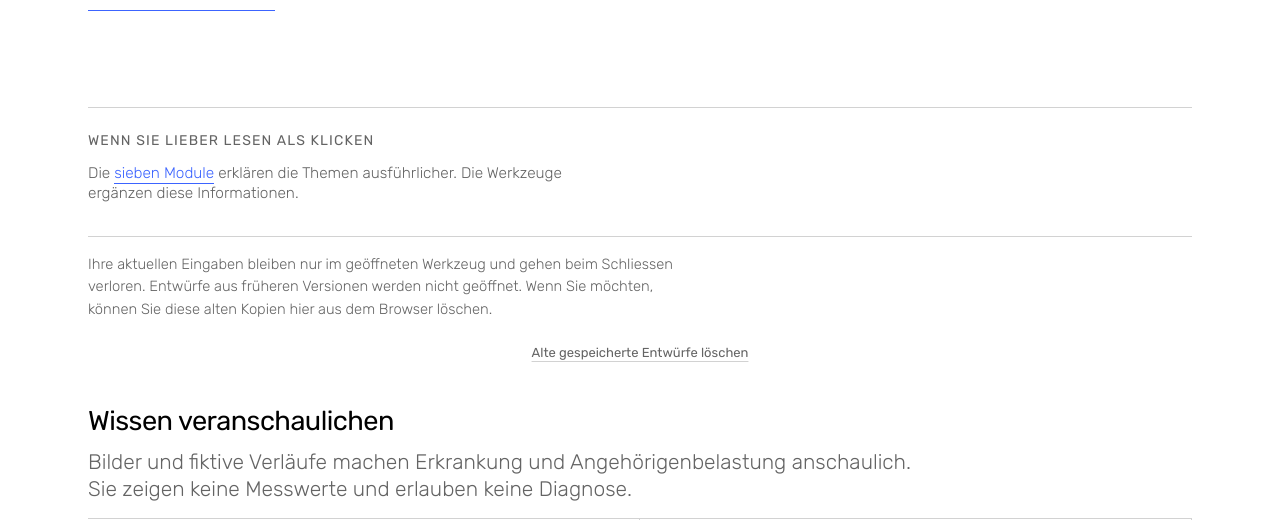
WerkzeugePage legacy draft deletion › attempts the other draft and session copies when one persistent copy cannot be deleted
(page scrolled)
Click the button "Alte gespeicherte Entwürfe löschen": click(640, 353) x1=88 y1=331 x2=1192 y2=375
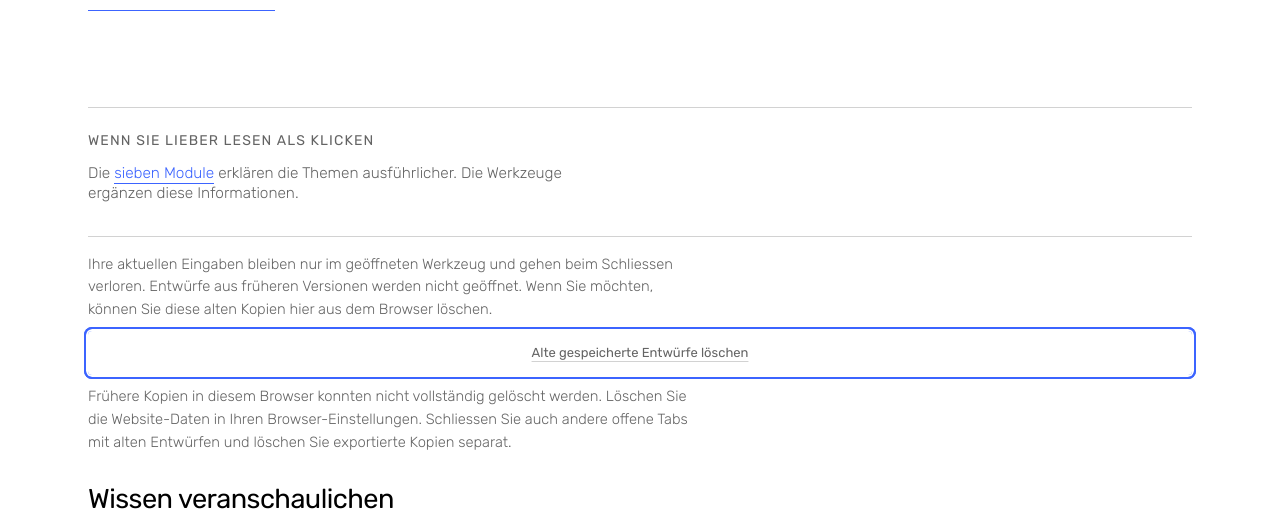
Expected: the message does not show "Alte Entwürfe in diesem Browser sind gelöscht.", x1=88 y1=385 x2=704 y2=453
Expected: the message shows "Frühere Kopien in diesem Browser konnten nicht vollständig gelöscht werden.", x1=88 y1=387 x2=688 y2=451
